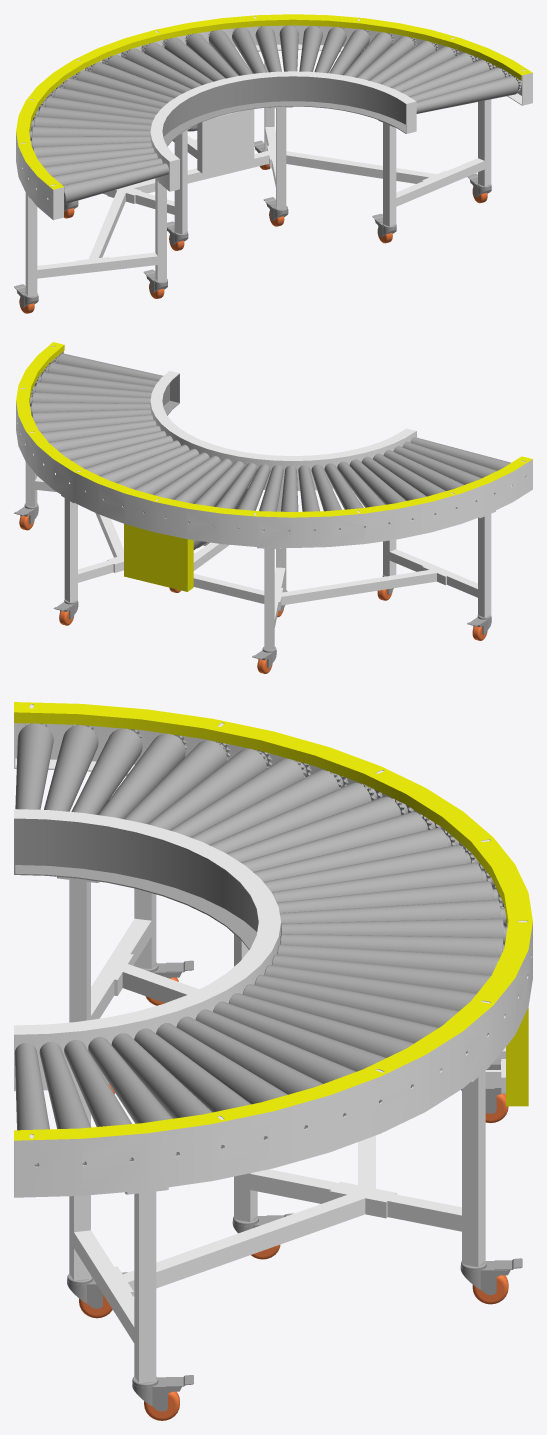
Rendered from BIFA_BFZY02_Curve180_R600_W500_H700.fbx.
The picture shows the model from 3 angles, top to bottom: view 1: azimuth 30°, elevation 25°; view 2: azimuth 150°, elevation 25°; view 3: azimuth 270°, elevation 25°; orthographic projection. The views are drawn at different scales.
Parts seen in each view (by area): view 1: BFZY02-R600-W500-H700-S-BC-4_3, BFZY02-R600-W500-H700-S-M1-V6-CS-A400-TA220V-VFD-A-BC-2_12, BFZY02-R600-W500-1_1, BFZY02-R600-W500-H700-S-M1-V6-CS-A400-TA220V-VFD-A-BC-7_2, BFZY02-R600-W500-gungtong_46, BFZY02-R600-W500-gungtong_13, BFZY02-R600-W500-gungtong_19, BFZY02-R600-W500-gungtong_18, BFZY02-R600-W500-gungtong_20, BFZY02-R600-W500-gungtong_21, BFZY02-R600-W500-gungtong_22, BFZY02-R600-W500-gungtong_17 (+32 smaller); view 2: BFZY02-R600-W500-H700-S-M1-V6-CS-A400-TA220V-VFD-A-BC-2_12, BFZY02-R600-W500-H700-S-BC-4_3, BFZY02-R600-W500-1_1, BFZY02-R600-W500-H700-S-M1-V6-CS-A400-TA220V-VFD-A-BC-7_2, BFZY02-R600-W500-gungtong_42, BFZY02-R600-W500-gungtong_43, BFZY02-R600-W500-gungtong_41, BFZY02-R600-W500-gungtong_44, BFZY02-R600-W500-gungtong_40, BFZY02-R600-W500-gungtong_45, BFZY02-R600-W500-gungtong_39, BFZY02-R600-W500-gungtong_46 (+30 smaller); view 3: BFZY02-R600-W500-H700-S-M1-V6-CS-A400-TA220V-VFD-A-BC-2_12, BFZY02-R600-W500-H700-S-BC-4_3, BFZY02-R600-W500-1_1, BFZY02-R600-W500-gungtong_28, BFZY02-R600-W500-gungtong_29, BFZY02-R600-W500-gungtong_27, BFZY02-R600-W500-gungtong_26, BFZY02-R600-W500-gungtong_30, BFZY02-R600-W500-gungtong_25, BFZY02-R600-W500-gungtong_31, BFZY02-R600-W500-gungtong_24, BFZY02-R600-W500-gungtong_32 (+29 smaller).
Boxes of the visible parts, box(x1,y1,x2,y2) form: BFZY02-R600-W500-H700-S-BC-4_3: box(25, 50, 491, 296); BFZY02-R600-W500-H700-S-M1-V6-CS-A400-TA220V-VFD-A-BC-2_12: box(16, 14, 532, 220); BFZY02-R600-W500-1_1: box(150, 71, 416, 191); BFZY02-R600-W500-H700-S-M1-V6-CS-A400-TA220V-VFD-A-BC-7_2: box(172, 109, 254, 173); BFZY02-R600-W500-gungtong_46: box(416, 76, 521, 113); BFZY02-R600-W500-gungtong_13: box(63, 163, 169, 204); BFZY02-R600-W500-gungtong_19: box(29, 126, 150, 140); BFZY02-R600-W500-gungtong_18: box(30, 136, 150, 147); BFZY02-R600-W500-gungtong_20: box(30, 116, 151, 130); BFZY02-R600-W500-gungtong_21: box(33, 106, 153, 124); BFZY02-R600-W500-gungtong_22: box(38, 97, 156, 119); BFZY02-R600-W500-gungtong_17: box(32, 141, 151, 156); BFZY02-R600-W500-H700-S-M1-V6-CS-A400-TA220V-VFD-A-BC-2_12: box(16, 342, 532, 547); BFZY02-R600-W500-H700-S-BC-4_3: box(25, 462, 495, 650); BFZY02-R600-W500-1_1: box(150, 371, 416, 490); BFZY02-R600-W500-H700-S-M1-V6-CS-A400-TA220V-VFD-A-BC-7_2: box(124, 488, 247, 591); BFZY02-R600-W500-gungtong_42: box(29, 392, 150, 406); BFZY02-R600-W500-gungtong_43: box(30, 382, 151, 397); BFZY02-R600-W500-gungtong_41: box(30, 402, 150, 415); BFZY02-R600-W500-gungtong_44: box(34, 372, 154, 392); BFZY02-R600-W500-gungtong_40: box(32, 409, 151, 422); BFZY02-R600-W500-gungtong_45: box(40, 362, 158, 386); BFZY02-R600-W500-gungtong_39: box(35, 414, 153, 432); BFZY02-R600-W500-gungtong_46: box(49, 353, 162, 380); BFZY02-R600-W500-H700-S-M1-V6-CS-A400-TA220V-VFD-A-BC-2_12: box(14, 702, 532, 1197); BFZY02-R600-W500-H700-S-BC-4_3: box(57, 774, 490, 1383); BFZY02-R600-W500-1_1: box(14, 809, 280, 1091); BFZY02-R600-W500-gungtong_28: box(279, 899, 507, 927); BFZY02-R600-W500-gungtong_29: box(281, 918, 507, 944); BFZY02-R600-W500-gungtong_27: box(277, 881, 503, 912); BFZY02-R600-W500-gungtong_26: box(271, 862, 495, 902); BFZY02-R600-W500-gungtong_30: box(280, 934, 504, 956); BFZY02-R600-W500-gungtong_25: box(263, 845, 482, 891); BFZY02-R600-W500-gungtong_31: box(277, 944, 499, 975); BFZY02-R600-W500-gungtong_24: box(253, 828, 465, 881); BFZY02-R600-W500-gungtong_32: box(272, 954, 490, 993).
Bounding box in the file's own units: 2332 × 720 × 1166.
